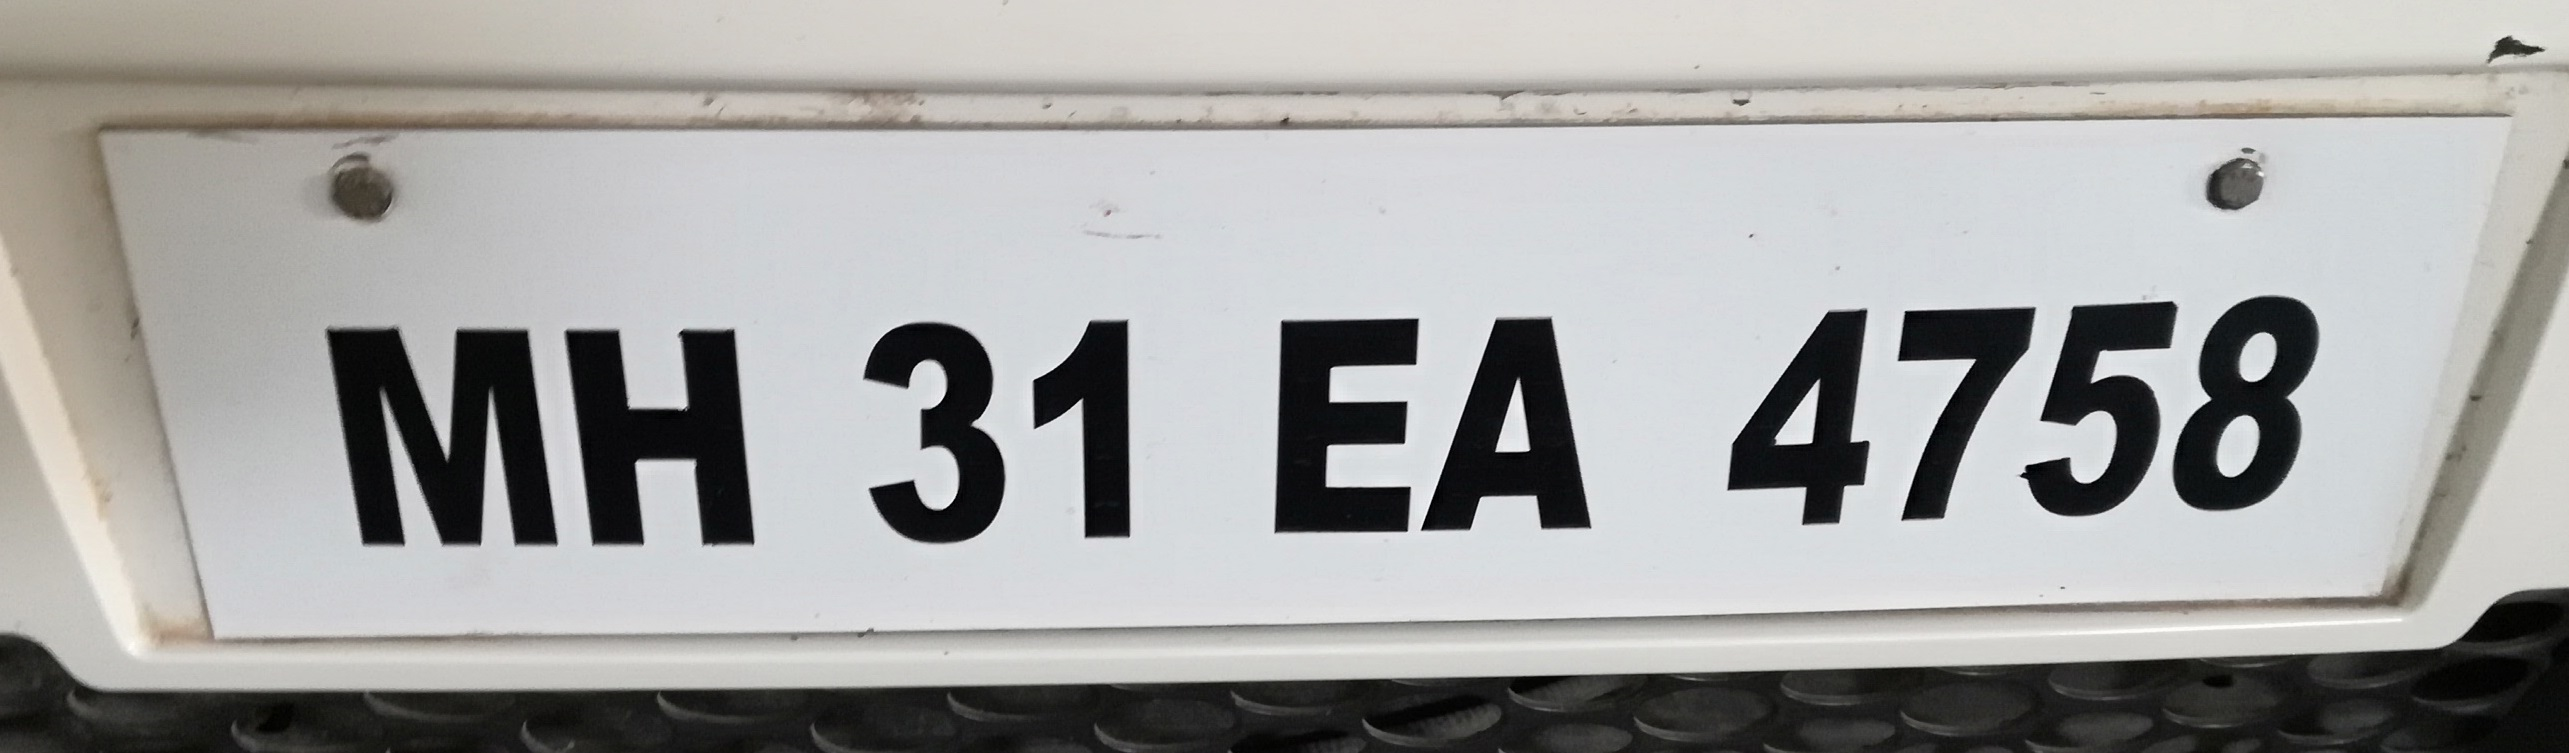numberplate: (77, 109, 2514, 665)
